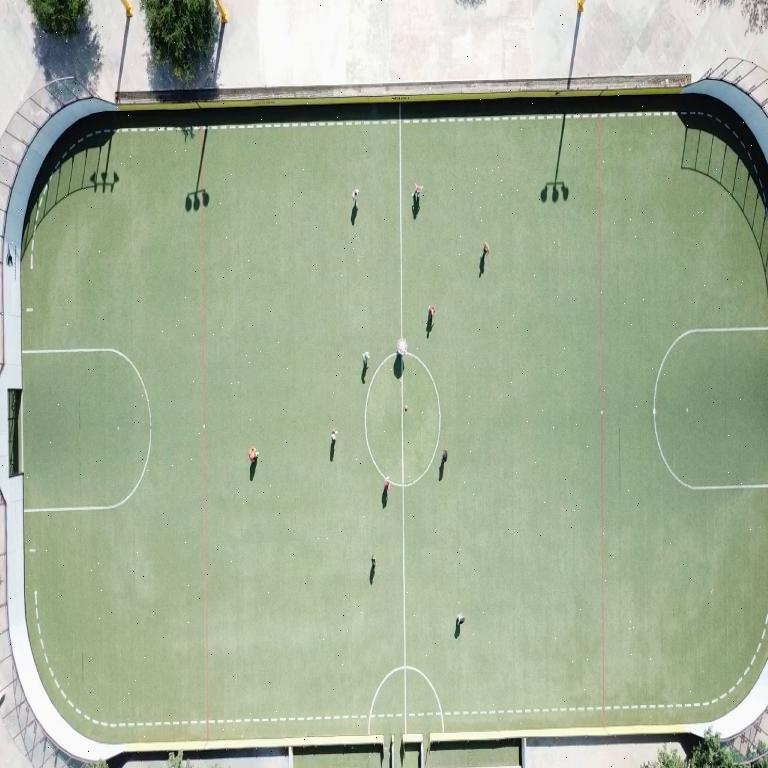AC: (22, 348, 151, 511), (652, 327, 767, 490)
B: (405, 405, 407, 410)
MC: (400, 361, 406, 732)
P: (397, 339, 407, 355), (413, 184, 422, 199), (248, 447, 257, 462), (361, 351, 369, 367), (456, 614, 464, 626), (427, 306, 435, 318), (352, 188, 357, 207), (384, 477, 389, 493), (330, 429, 336, 442), (441, 450, 447, 463), (483, 243, 488, 257), (371, 556, 375, 569)
